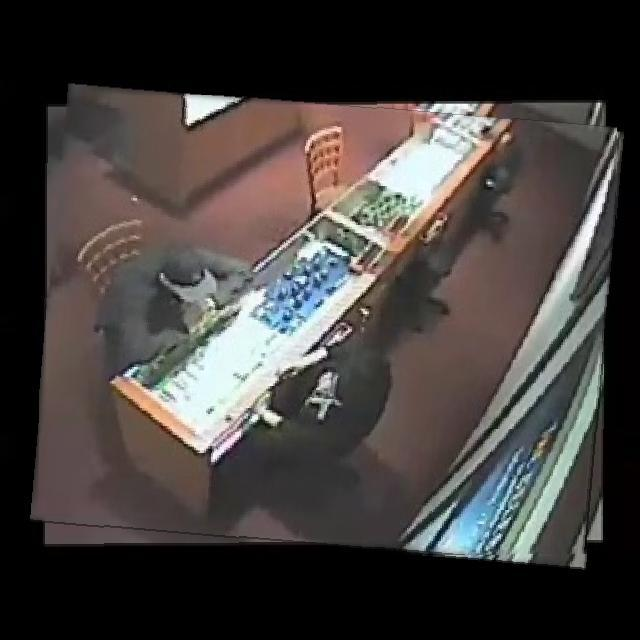Normal: (39, 95, 617, 558)
